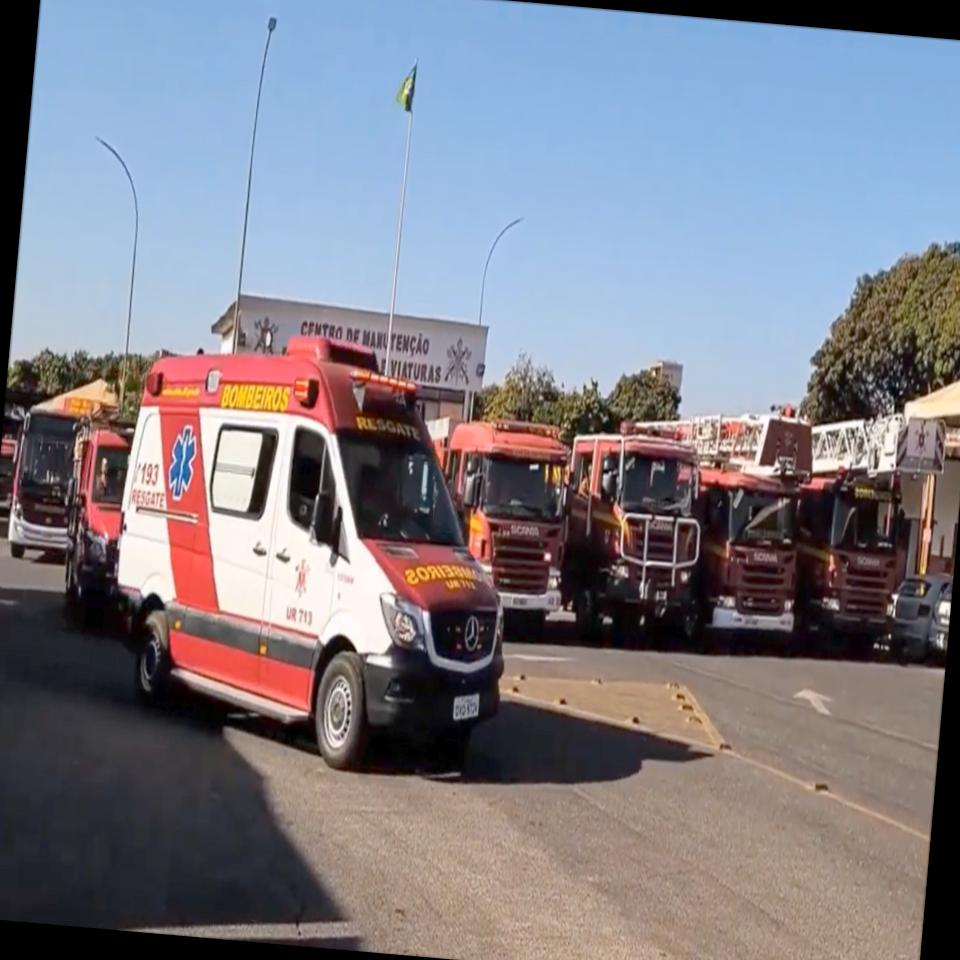viatura: (99, 319, 532, 780)
